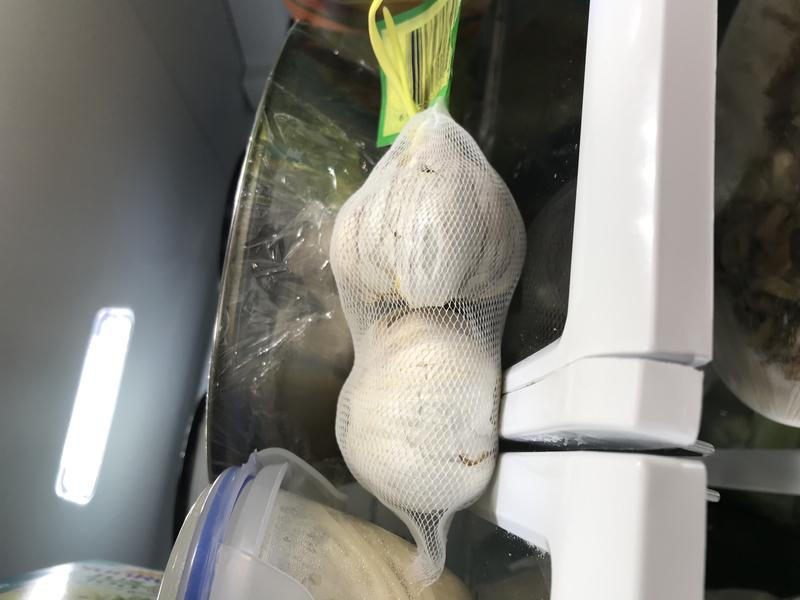garlic: (323, 308, 511, 530), (323, 138, 536, 310)
